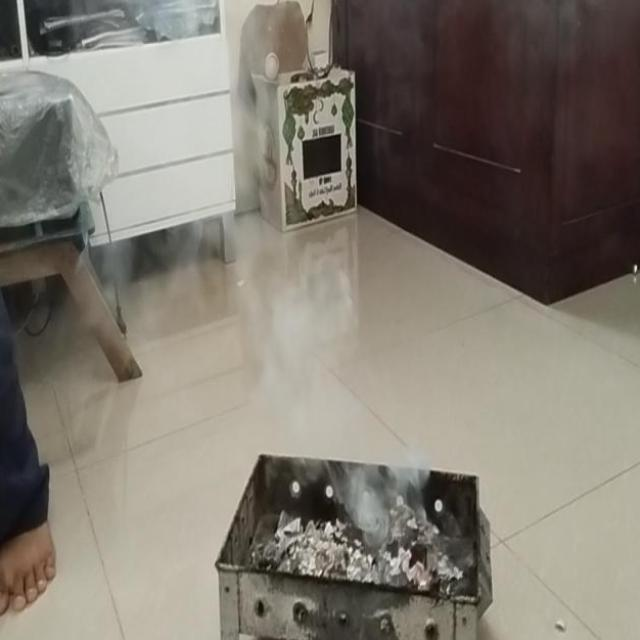fire: (255, 230, 352, 426), (332, 444, 435, 544)
